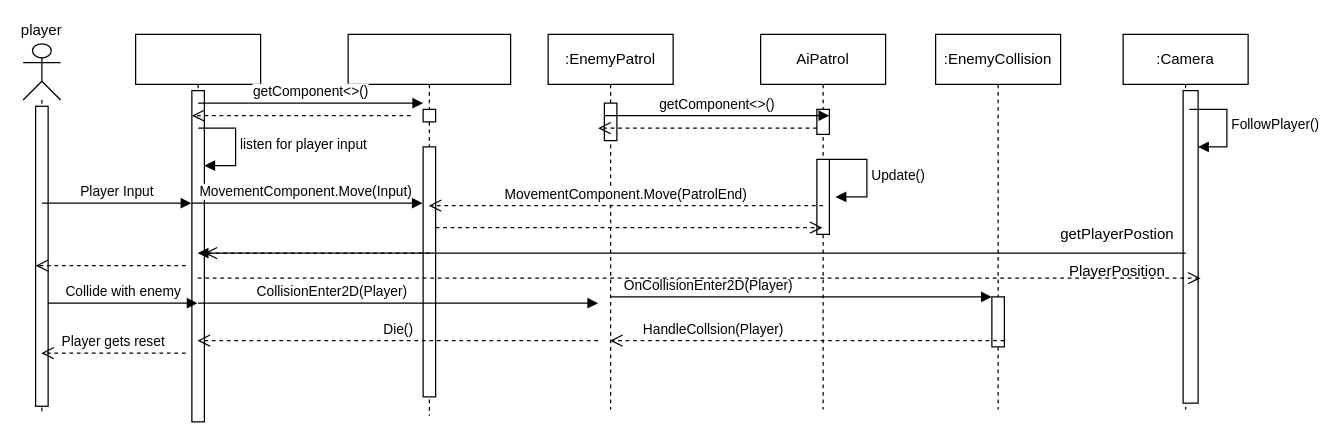
The diagram is 1341 pixels wide and 444 high, and some of its shapes have lost their labels. The box of each missing label's shape, as (x1, y1, x2, y2) in pixels:
:MovementComponent: (347, 33, 511, 416)
:PlayerController: (134, 33, 261, 422)
